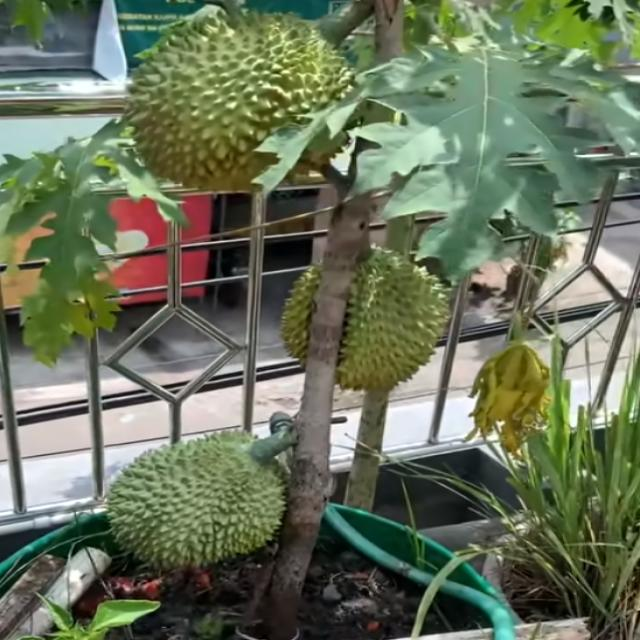immature: (112, 0, 361, 199), (102, 429, 297, 570), (277, 242, 450, 392)
